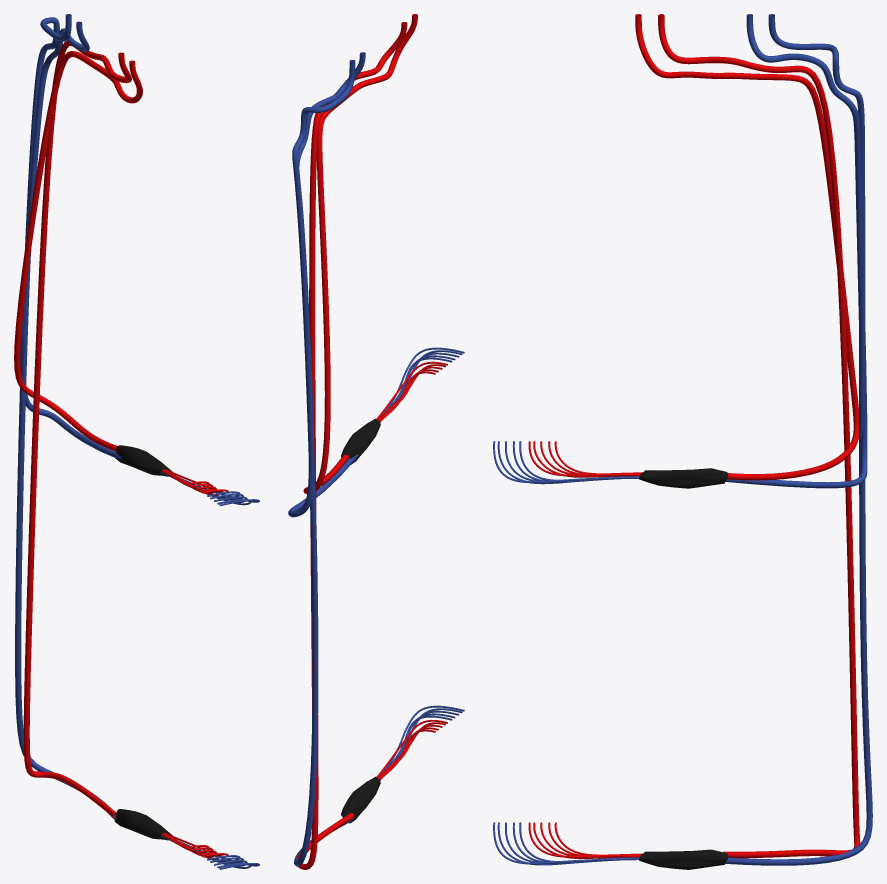
The model's file is Adjust Cable PSU to IDU.fbx.
The picture shows the model from 3 angles, left to right: view 1: azimuth 30°, elevation 25°; view 2: azimuth 150°, elevation 25°; view 3: azimuth 270°, elevation 25°; orthographic projection. The views are drawn at different scales.
Visible parts, largest first — view 1: NurbsPath.003, NurbsPath.001, NurbsPath.004, NurbsPath.002, Torus.001, Torus; view 2: NurbsPath.001, NurbsPath.003, NurbsPath.004, NurbsPath.002, Torus.001, Torus; view 3: NurbsPath.003, NurbsPath.001, NurbsPath.004, NurbsPath.002, Torus.001, Torus.
Boxes of the visible parts, <box> form: NurbsPath.003: <box>23,41,131,818</box>; NurbsPath.001: <box>15,14,116,820</box>; NurbsPath.004: <box>14,51,142,451</box>; NurbsPath.002: <box>20,21,122,459</box>; Torus.001: <box>114,809,172,840</box>; Torus: <box>115,445,172,476</box>; NurbsPath.001: <box>292,60,355,866</box>; NurbsPath.003: <box>297,22,407,869</box>; NurbsPath.004: <box>303,14,417,493</box>; NurbsPath.002: <box>288,52,365,517</box>; Torus.001: <box>341,776,380,823</box>; Torus: <box>341,418,380,464</box>; NurbsPath.003: <box>658,14,860,858</box>; NurbsPath.001: <box>725,14,872,865</box>; NurbsPath.004: <box>635,14,858,480</box>; NurbsPath.002: <box>725,14,867,488</box>; Torus.001: <box>639,849,728,869</box>; Torus: <box>639,468,728,488</box>.
Size of the model in its own units: 5.86 by 56.05 by 23.08.
